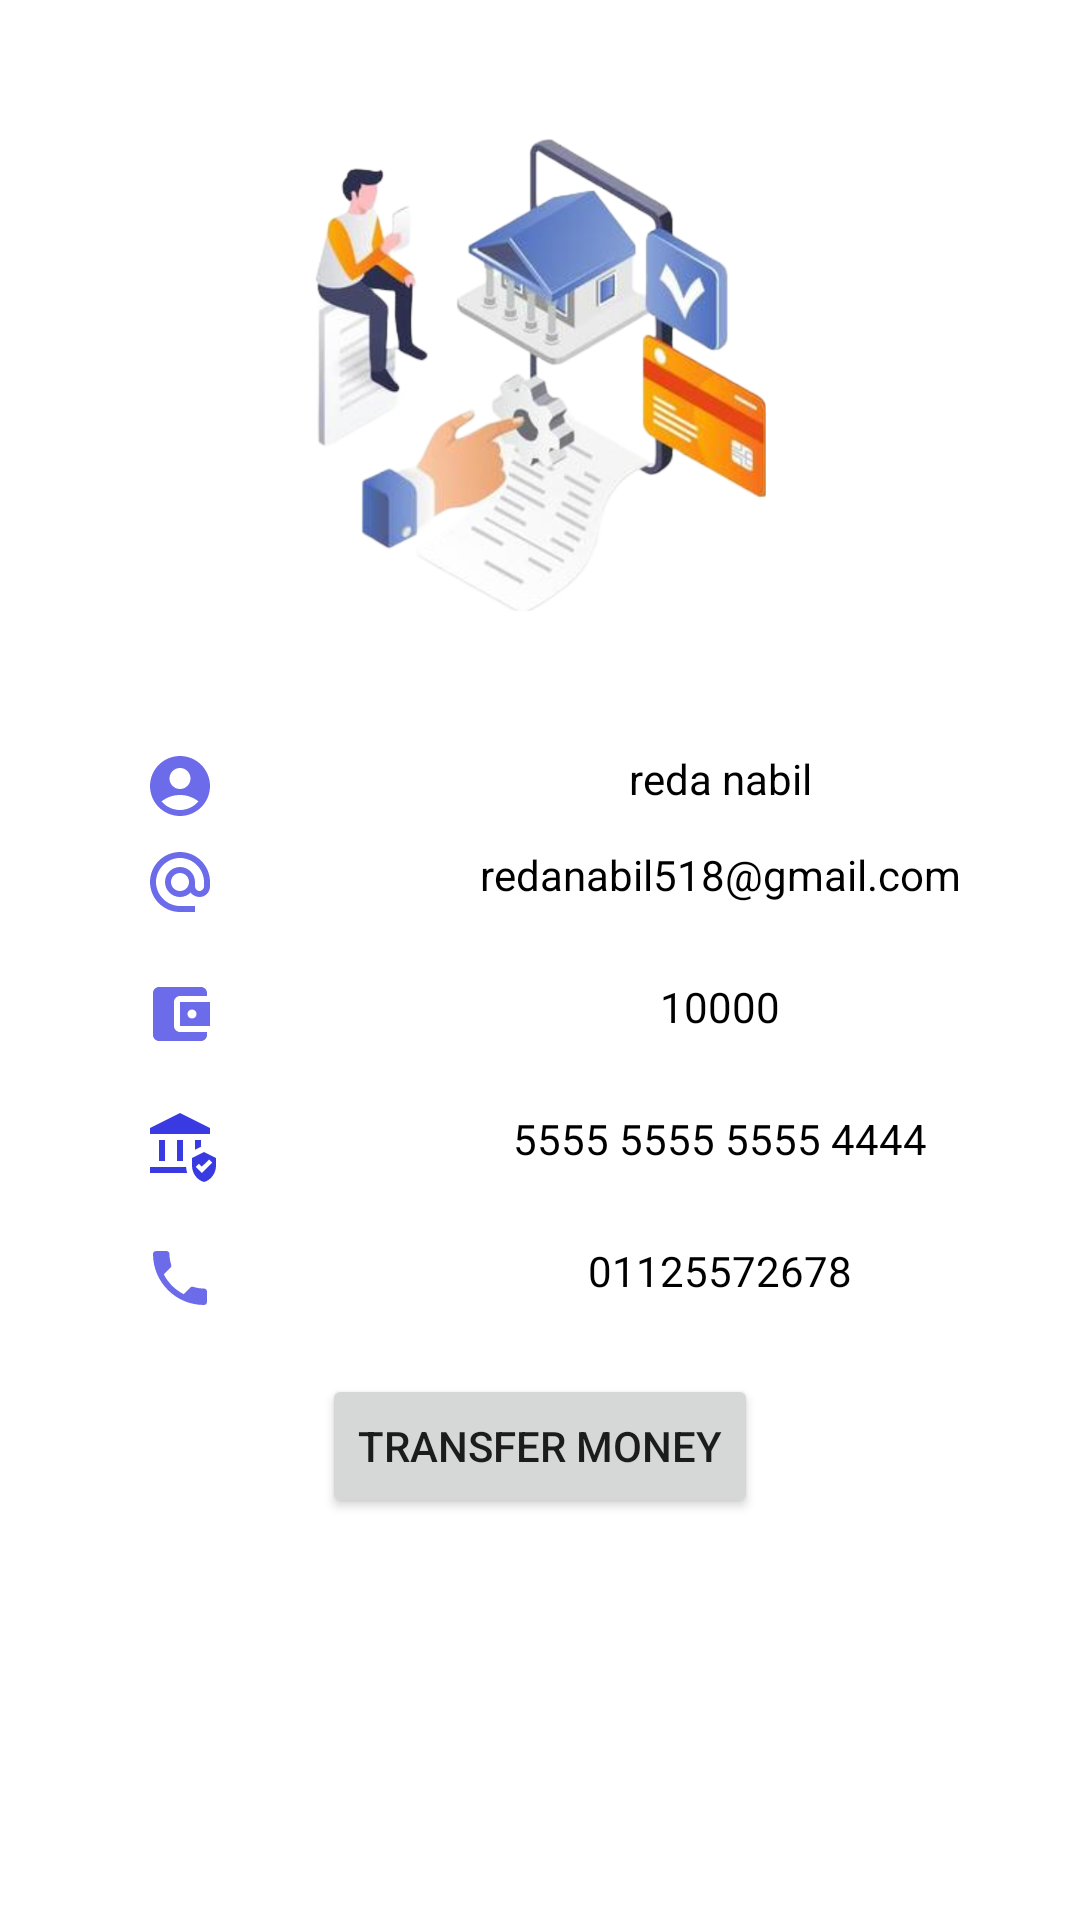

Where to tap for icons on this 1080×1920 app screen, as [x,y]:
account balance wallet: [181,1014]
account circle: [180,786]
alternate email: [180,882]
assured workload: [183,1147]
local phone: [180,1278]
